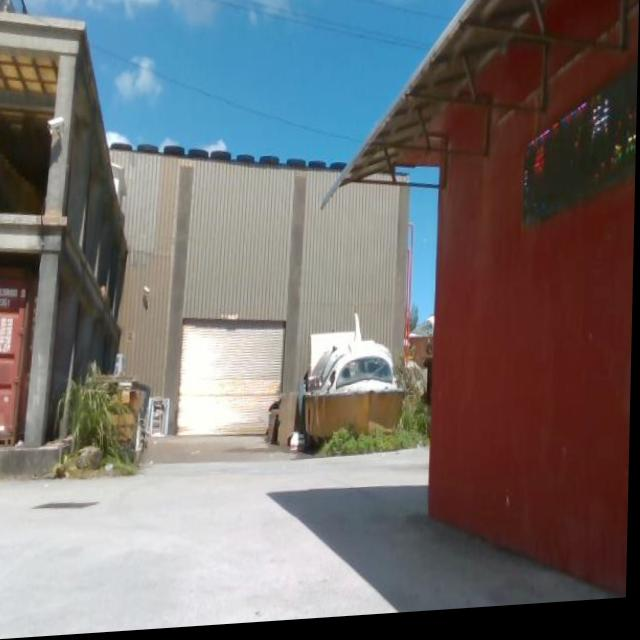pollute: (97, 353, 172, 476), (271, 394, 307, 455)
